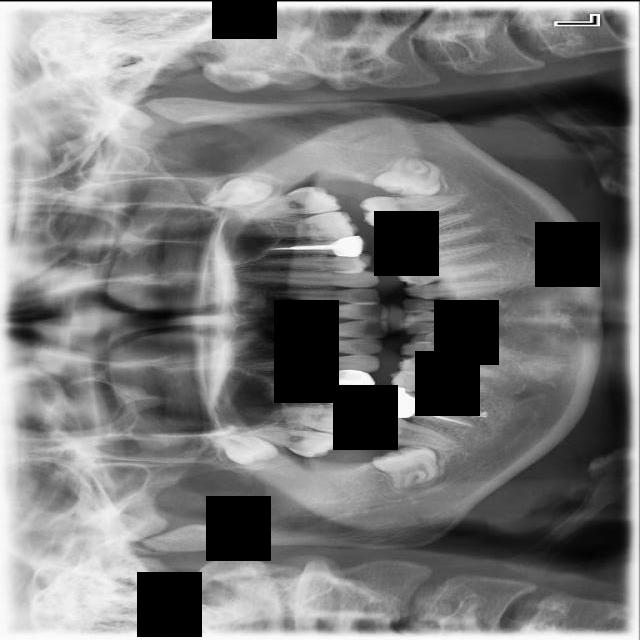3M ESPE Implant: (205, 428, 281, 470)
52: (379, 382, 424, 425), (332, 367, 377, 391), (331, 235, 367, 256), (336, 417, 351, 432), (407, 311, 422, 315)
73: (409, 390, 486, 430), (262, 237, 343, 264), (262, 370, 337, 388), (546, 16, 576, 30)
BioHorizons Implant: (230, 182, 343, 222)
BioLife Implant: (202, 174, 274, 207)
Biomet 3i Implant: (371, 149, 447, 204)
Blue Sky Bio Implant: (358, 192, 463, 227)
Caries: (247, 421, 344, 461)
Implant: (361, 412, 462, 452)
Keystone Dental Implant: (370, 440, 443, 496)
